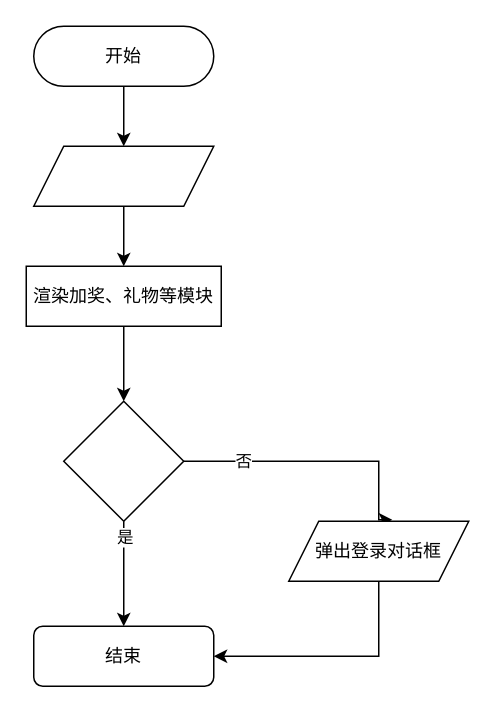
The diagram is 495 pixels wide and 713 high, and some of its shapes have lost their labels. Here are the shapes that lost their labels. From the top down, the centre of each, then its label:
(123,175): 查询初始化接口
(123,460): 是否登录？
